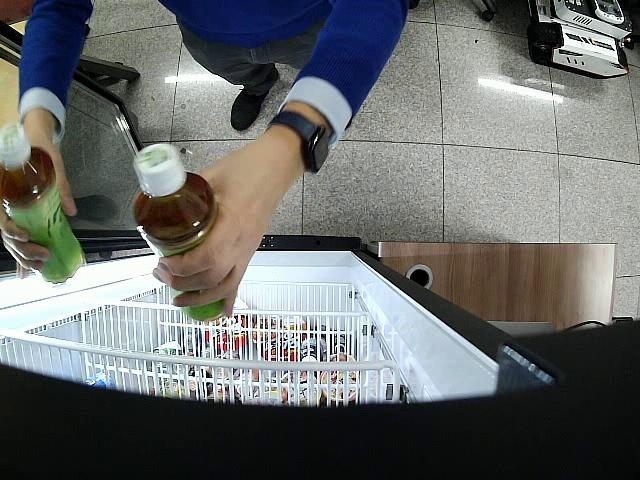00_hand: (154, 134, 292, 315), (18, 113, 77, 271)
19_17cha: (133, 141, 231, 322), (3, 124, 87, 285)
